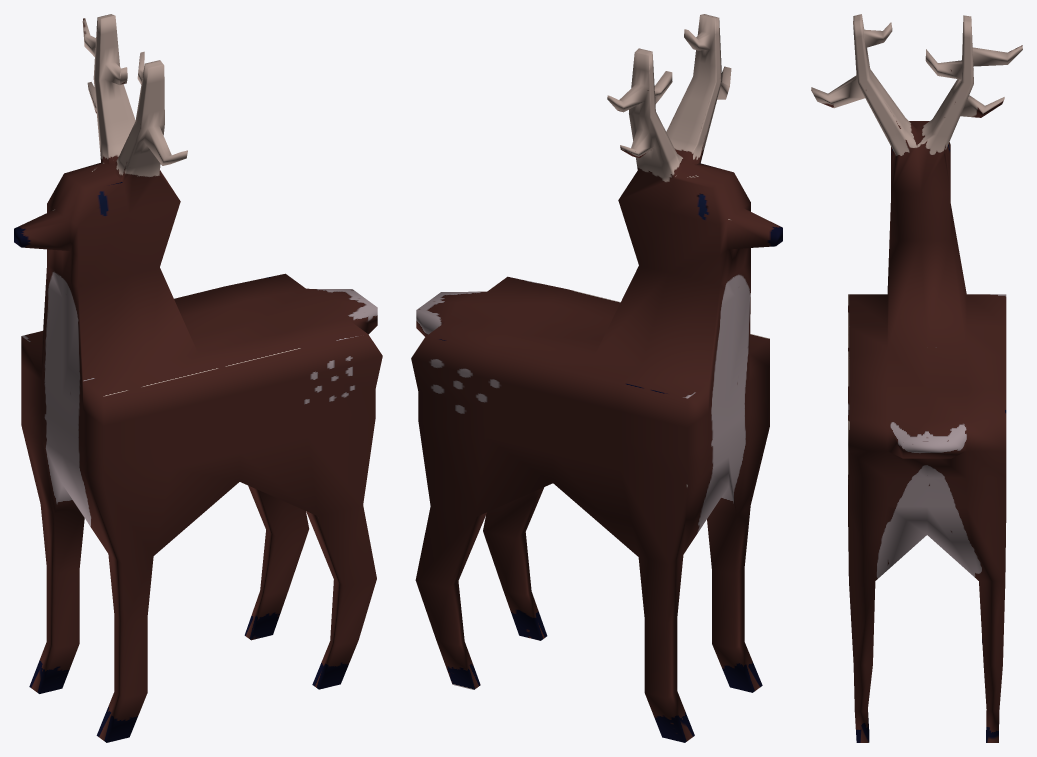
Rendered from deer.fbx.
3 renders of one model, left to right at view 1: azimuth 30°, elevation 25°; view 2: azimuth 150°, elevation 25°; view 3: azimuth 270°, elevation 25°, orthographic. The views are drawn at different scales.
Parts seen in each view (by area): view 1: Kocka; view 2: Kocka; view 3: Kocka.
Part boxes in pixels (x1=…): Kocka: x1=14, y1=14, x2=382, y2=742; Kocka: x1=411, y1=14, x2=782, y2=742; Kocka: x1=811, y1=14, x2=1022, y2=742.
Size of the model in its own units: 490 by 894 by 267.
Materials: 1 (1 with a texture image).
